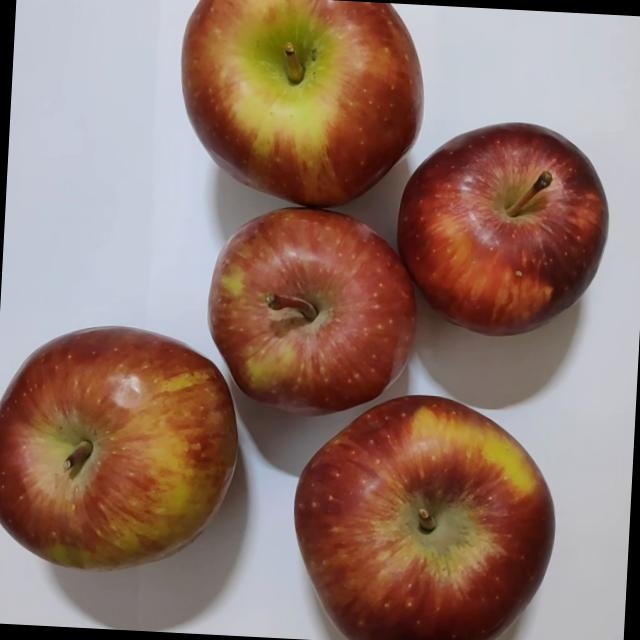apple: (273, 385, 553, 640), (0, 316, 248, 586), (162, 0, 431, 227), (378, 116, 609, 357), (186, 200, 424, 433)
